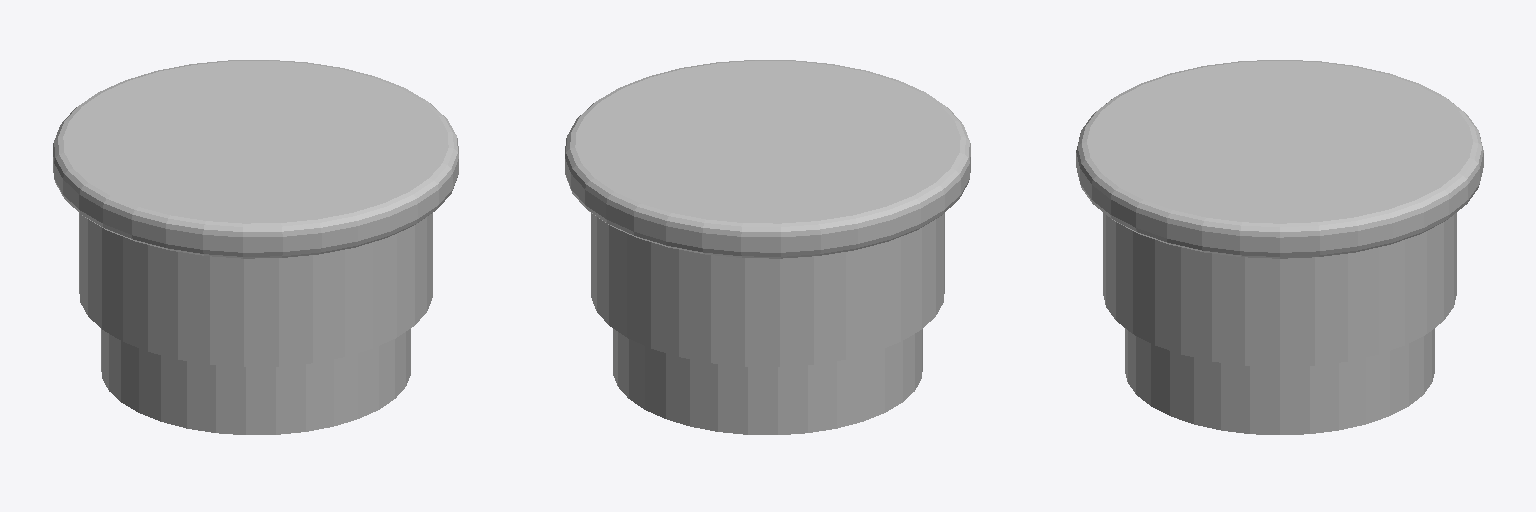
Rendered from bouton_haut.obj.
3 renders of one model, left to right at view 1: azimuth 30°, elevation 25°; view 2: azimuth 150°, elevation 25°; view 3: azimuth 270°, elevation 25°, orthographic.
Visible parts, largest first — view 1: Desk_RedButton.001_Bouton_Rouge.003_Cube.000; view 2: Desk_RedButton.001_Bouton_Rouge.003_Cube.000; view 3: Desk_RedButton.001_Bouton_Rouge.003_Cube.000.
Boxes of the visible parts, box(x1,y1,x2,y2) form: Desk_RedButton.001_Bouton_Rouge.003_Cube.000: box(53, 60, 458, 434); Desk_RedButton.001_Bouton_Rouge.003_Cube.000: box(565, 60, 970, 434); Desk_RedButton.001_Bouton_Rouge.003_Cube.000: box(1076, 60, 1483, 434).
Bounding box in the file's own units: 0.4281 × 0.2638 × 0.4281.